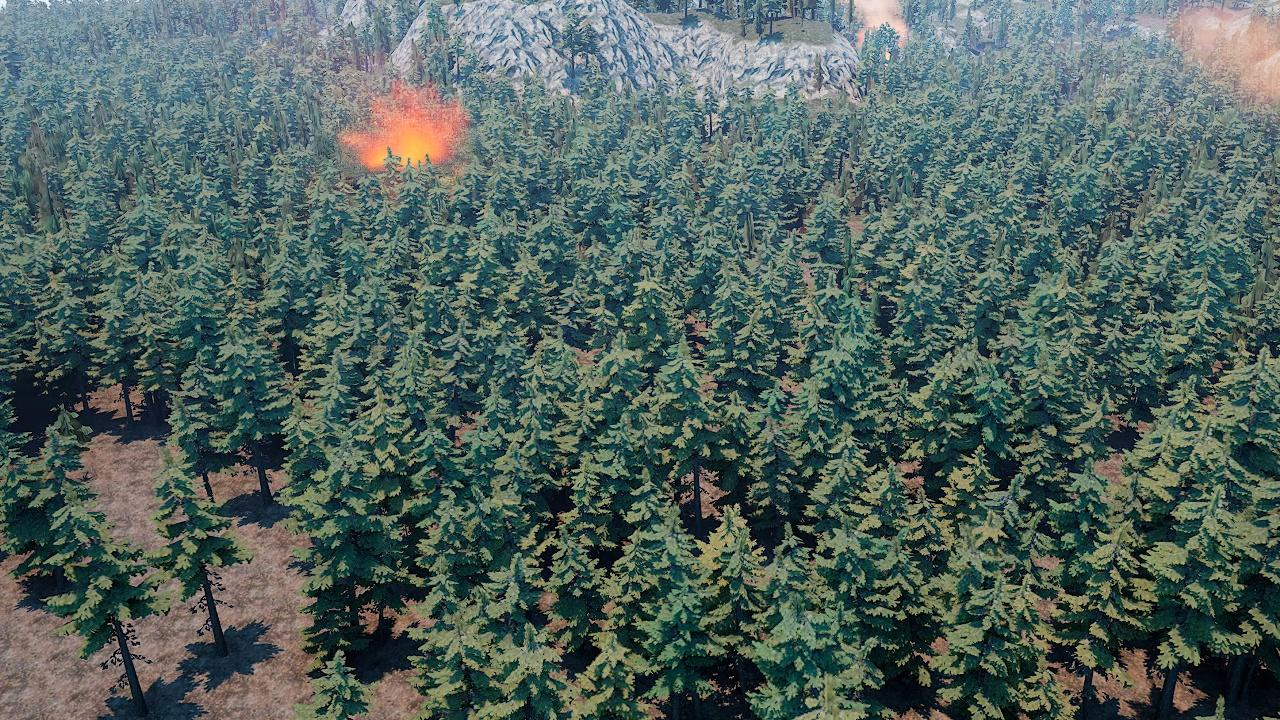fire: (360, 132, 447, 170)
smoke: (265, 0, 463, 148), (1162, 2, 1275, 123), (851, 0, 907, 58)
